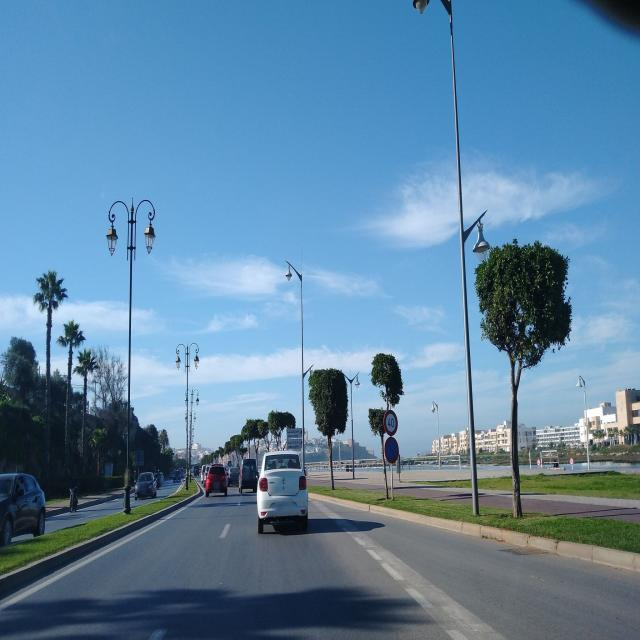forb_stopping: (383, 434, 399, 463)
